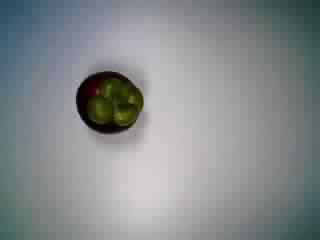mangosteen: (72, 63, 146, 137)
